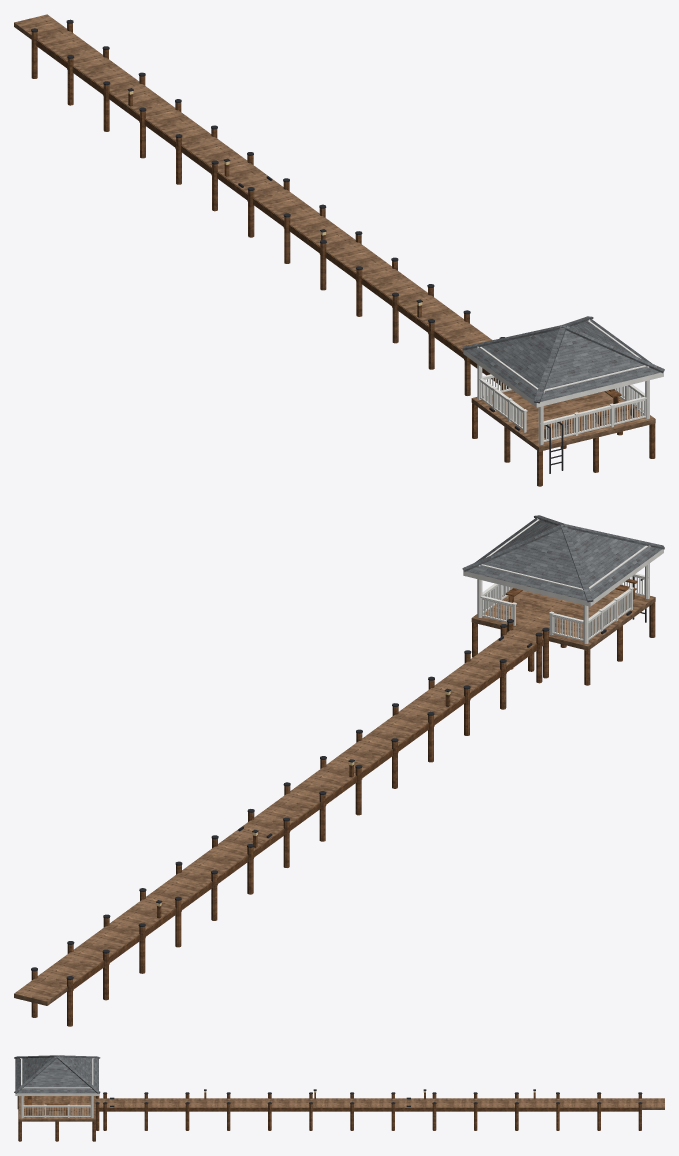
The model's file is med_longdock_gazebo.fbx.
The picture shows the model from 3 angles, top to bottom: view 1: azimuth 30°, elevation 25°; view 2: azimuth 150°, elevation 25°; view 3: azimuth 270°, elevation 25°; orthographic projection. The views are drawn at different scales.
Visible parts, largest first — view 1: med_longdock_gazebo_LOD0; view 2: med_longdock_gazebo_LOD0; view 3: med_longdock_gazebo_LOD0.
Part boxes in pixels (x1,y1,x2,y2): med_longdock_gazebo_LOD0: (14,14,664,486); med_longdock_gazebo_LOD0: (14,515,664,1026); med_longdock_gazebo_LOD0: (14,1055,664,1141).
Size of what is drawn, in the model's own units: 6.3 by 5.59 by 47.45.
Materials: 1 (1 with a texture image).
